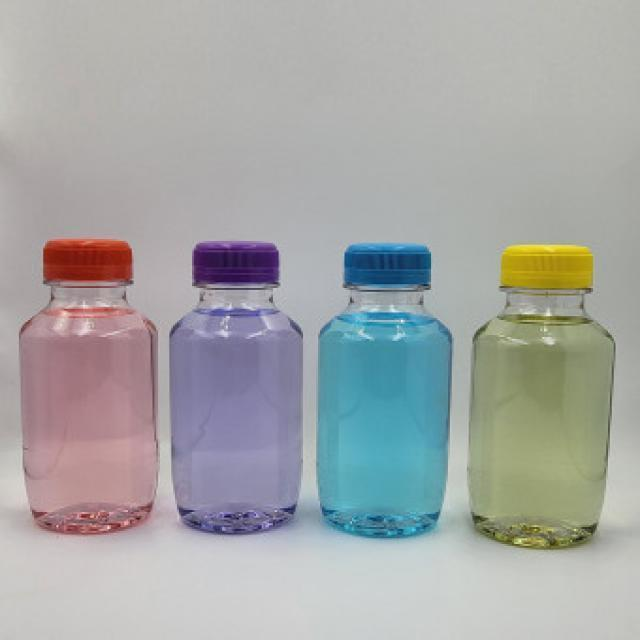Pet_Bottle: (468, 245, 616, 548), (17, 239, 160, 537), (168, 239, 304, 533), (321, 244, 454, 536)
